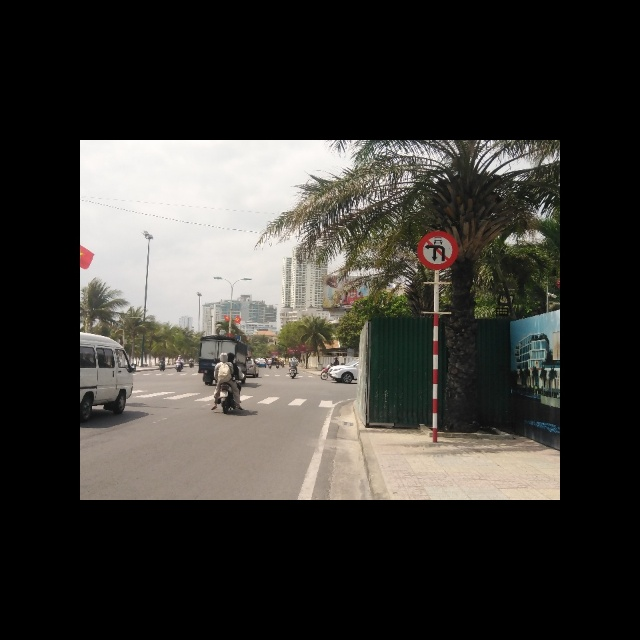Cấm xe ô tô quay đầu và rẽ trái: (416, 231, 458, 270)
